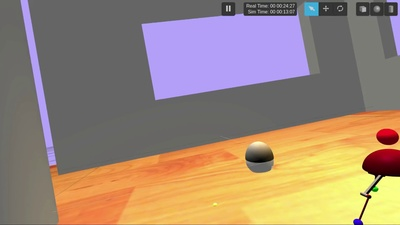mira_robot: (246, 141, 274, 173)
